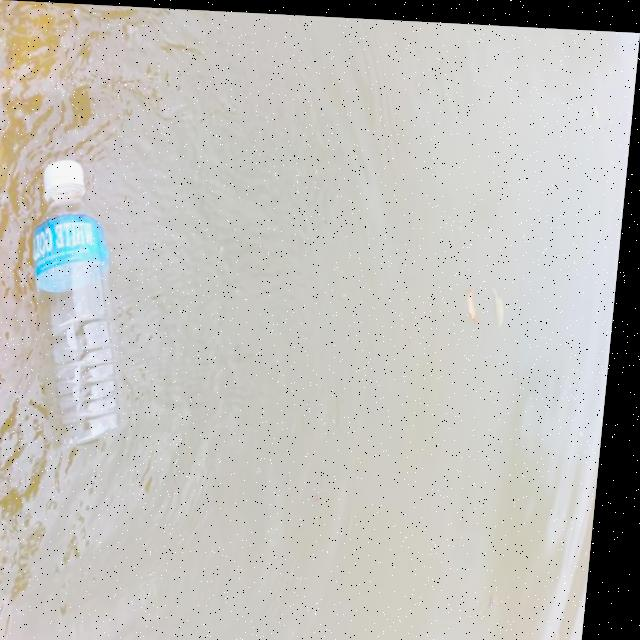waterbottle: (14, 142, 157, 472)
